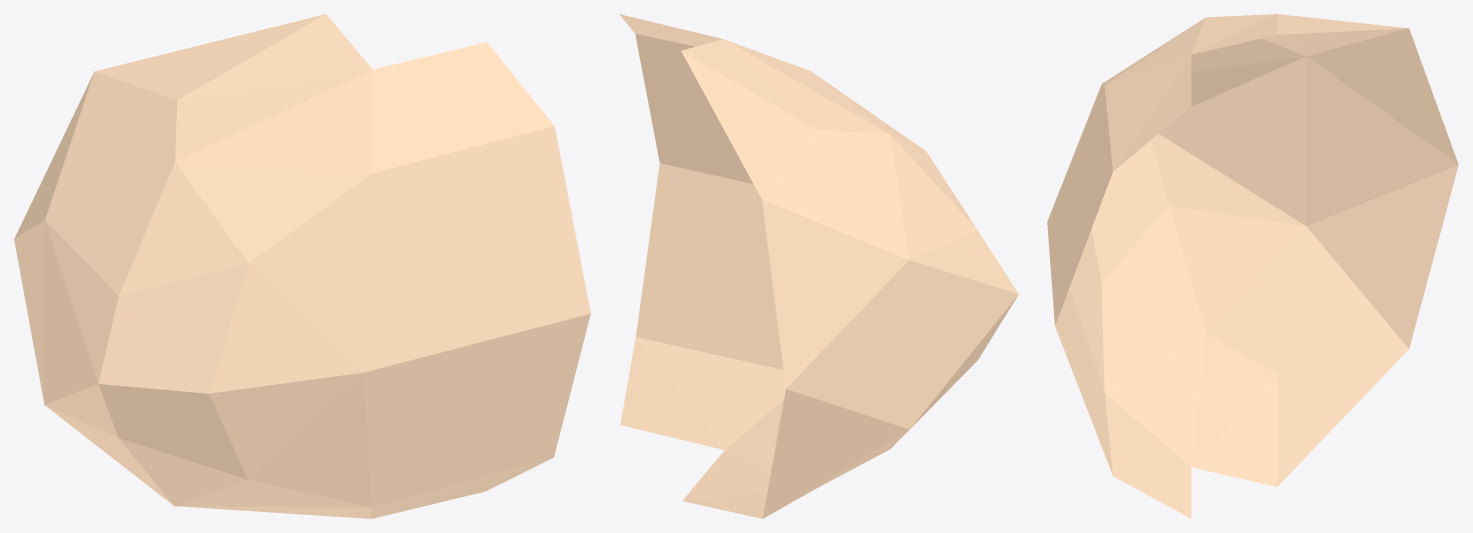
File: head1.glb
3 views of the same model, side by side, from view 1: azimuth 30°, elevation 25°; view 2: azimuth 150°, elevation 25°; view 3: azimuth 270°, elevation 25° (orthographic). The views are drawn at different scales.
Parts seen in each view (by area): view 1: tomodachi-2026-03-02-15-43-41-359.007; view 2: tomodachi-2026-03-02-15-43-41-359.007; view 3: tomodachi-2026-03-02-15-43-41-359.007.
Boxes of the visible parts, left/top/right/bottom form: tomodachi-2026-03-02-15-43-41-359.007: left=14, top=14, right=590, bottom=518; tomodachi-2026-03-02-15-43-41-359.007: left=619, top=14, right=1018, bottom=518; tomodachi-2026-03-02-15-43-41-359.007: left=1047, top=14, right=1458, bottom=518.
Bounding box in the file's own units: 0.979 × 1.04 × 0.8567.
1 material, 1 textured.
